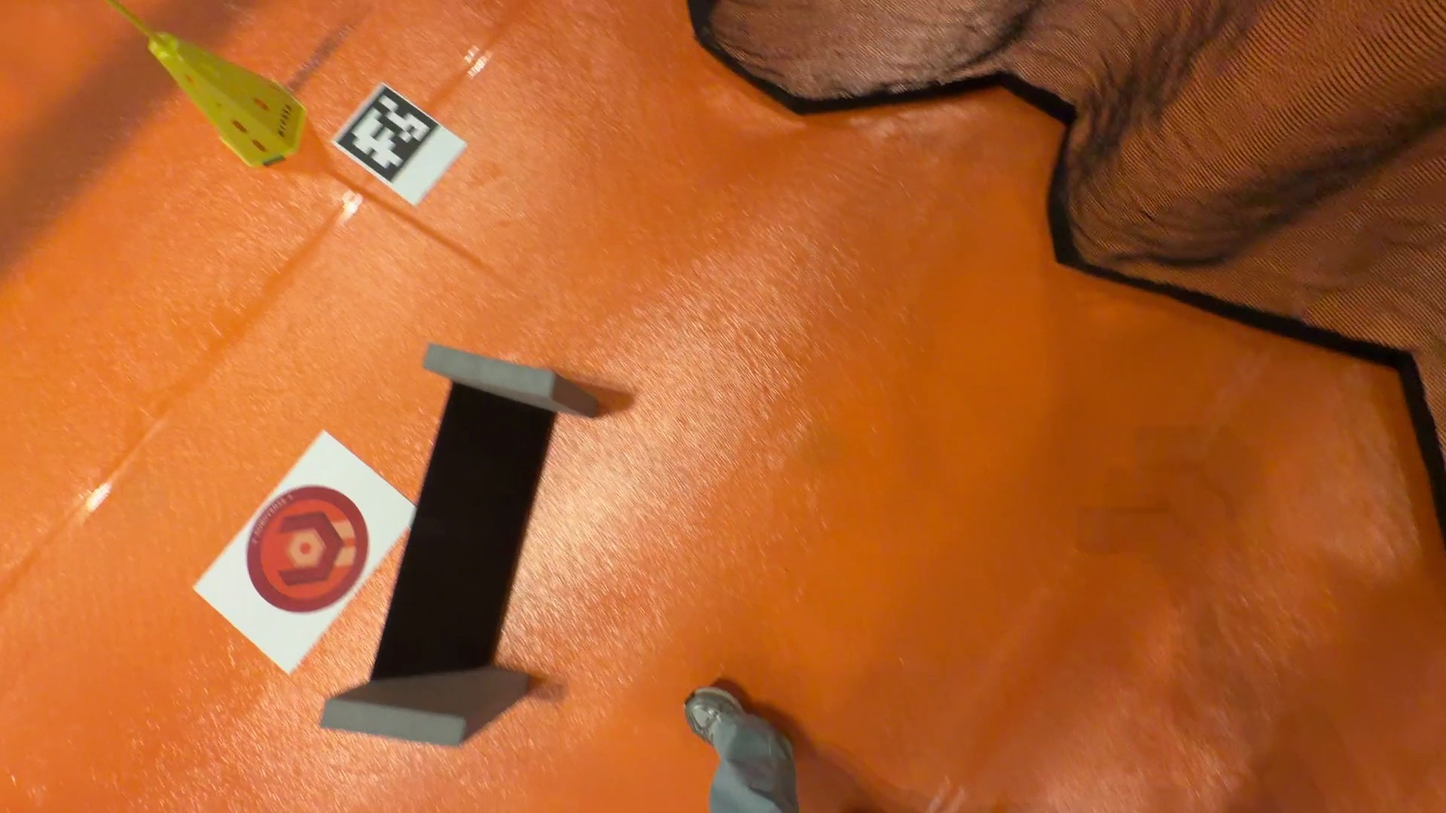landing_pad: (246, 489, 371, 611)
